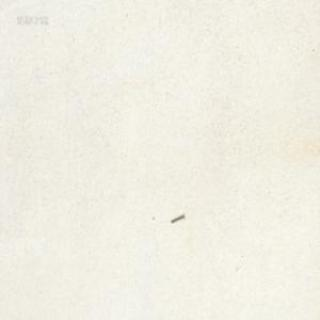Bolttrack_idkeyframe: (169, 213, 183, 224)
